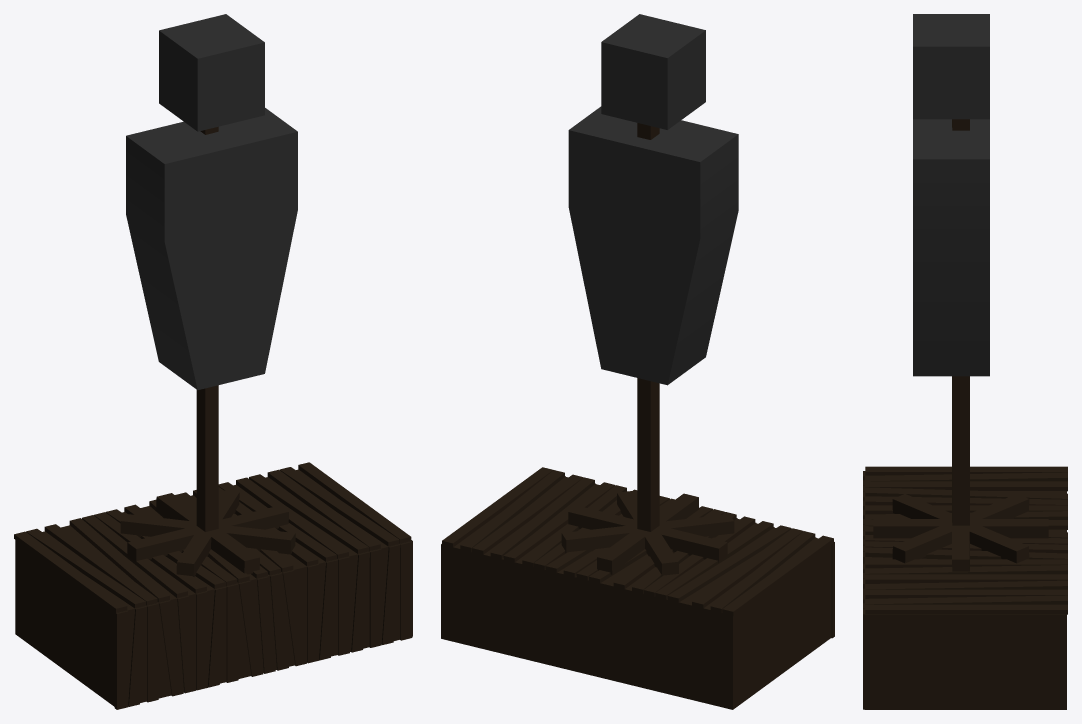
Rendered from SD2wr_armor_1_drf.fbx.
The picture shows the model from 3 angles, left to right: view 1: azimuth 30°, elevation 25°; view 2: azimuth 150°, elevation 25°; view 3: azimuth 270°, elevation 25°; orthographic projection.
Parts seen in each view (by area): view 1: SD2wr_armor_1_drf; view 2: SD2wr_armor_1_drf; view 3: SD2wr_armor_1_drf.
Part boxes in pixels (x1,y1,x2,y2): SD2wr_armor_1_drf: (14,14,412,709); SD2wr_armor_1_drf: (441,14,834,709); SD2wr_armor_1_drf: (863,14,1067,709).
Size of the model in its own units: 111 by 66.62 by 217.
